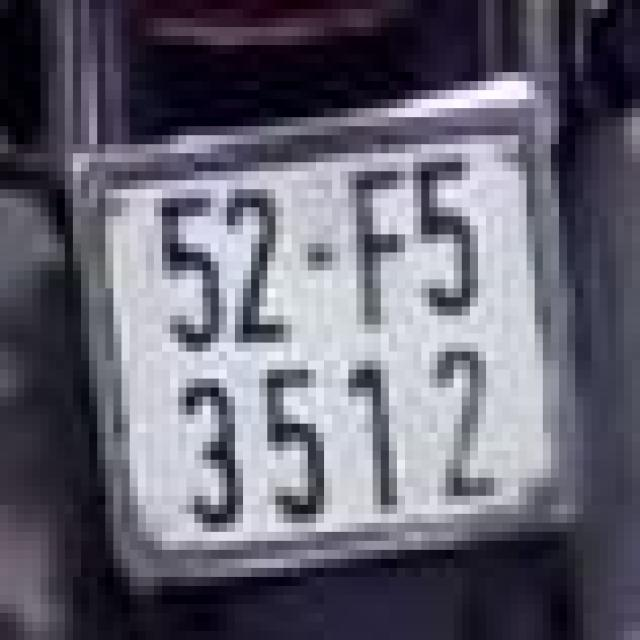1: (340, 351, 413, 514)
2: (418, 329, 507, 500), (222, 171, 296, 352)
3: (166, 369, 263, 541)
5: (146, 185, 235, 356), (413, 149, 494, 329), (251, 356, 332, 527)
F: (340, 149, 413, 338)
